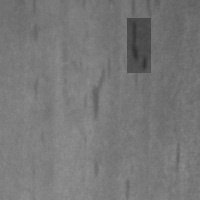inclusion: (126, 1, 157, 98), (75, 58, 115, 123), (127, 18, 151, 73), (166, 137, 188, 177), (28, 74, 43, 104), (28, 21, 42, 46)
